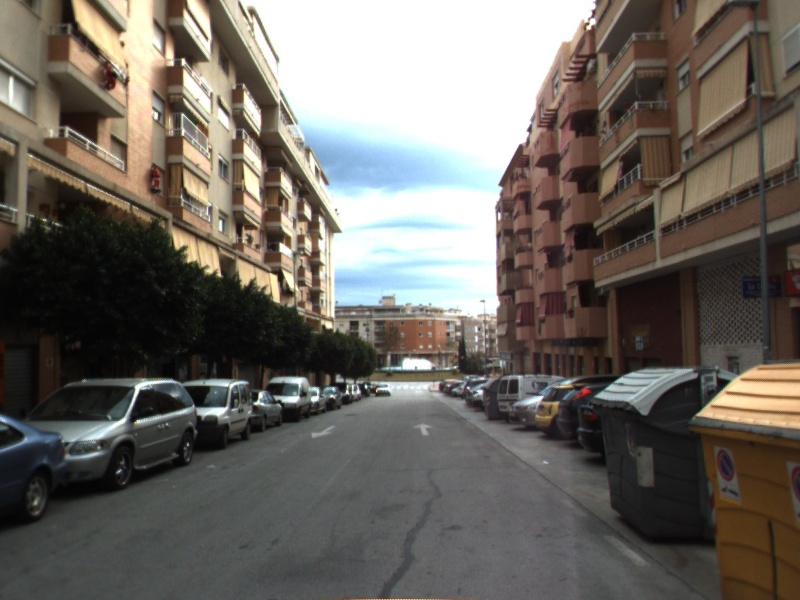STRAIGHT: (411, 421, 435, 438)
